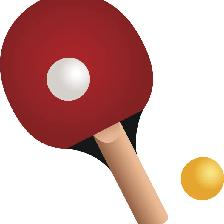WhiteBall: (45, 56, 90, 102)
YellowBall: (181, 155, 222, 201)
